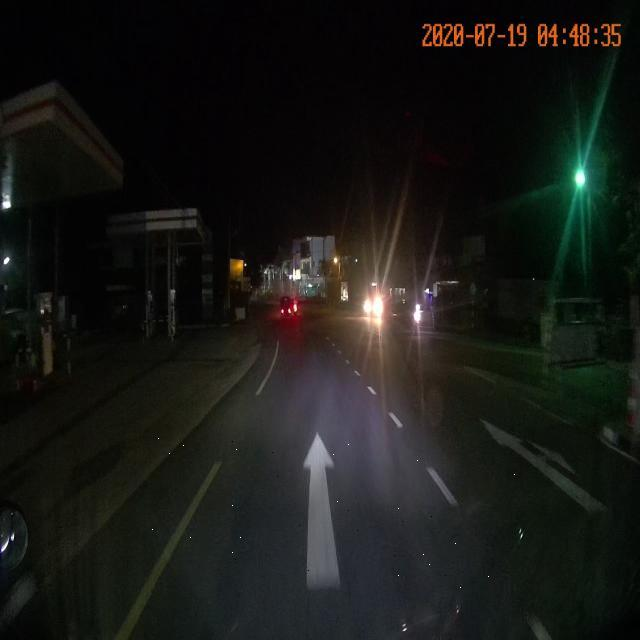forward: (142, 426, 518, 592)
